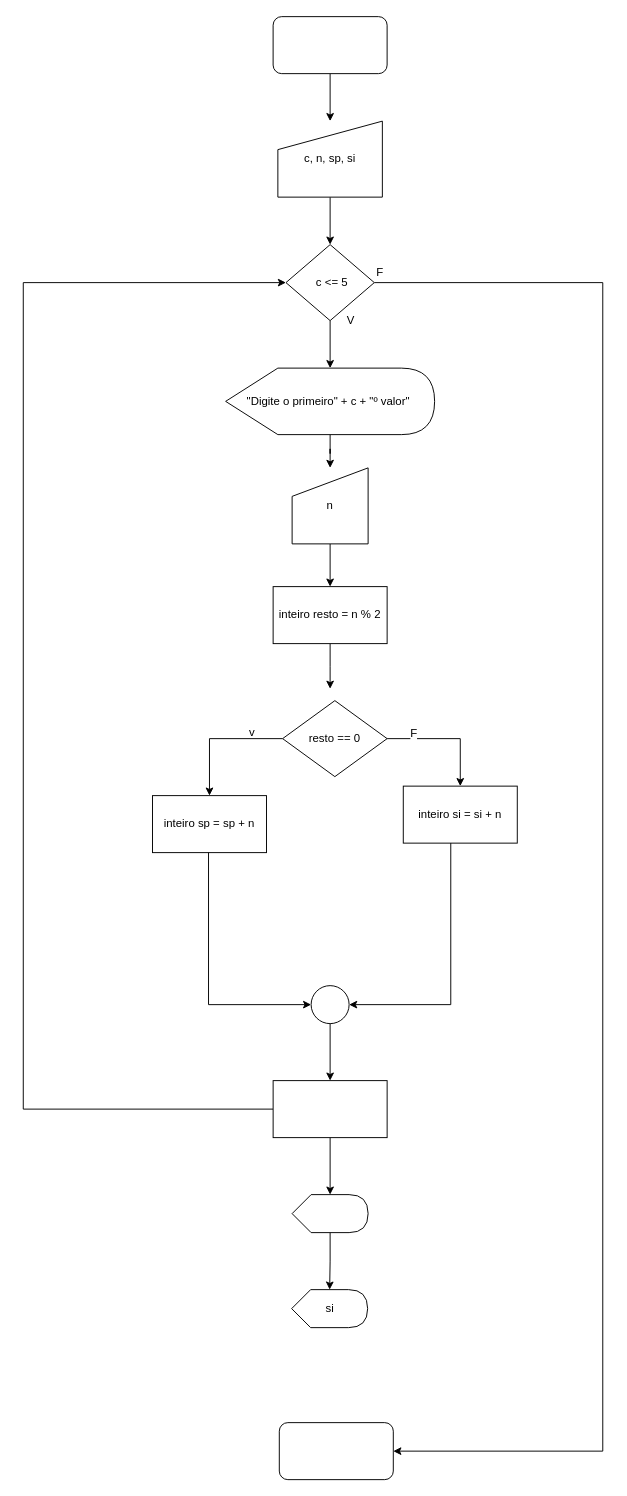
Image size: 627x1496. Some labels were removed from this diagram. Here are the shapes that lost their labels. From the top down, the centre of each, then its label:
point 329,45: INÍCIO
point 329,1109: c = c + 1
point 329,1213: sp
point 335,1451: FIM
